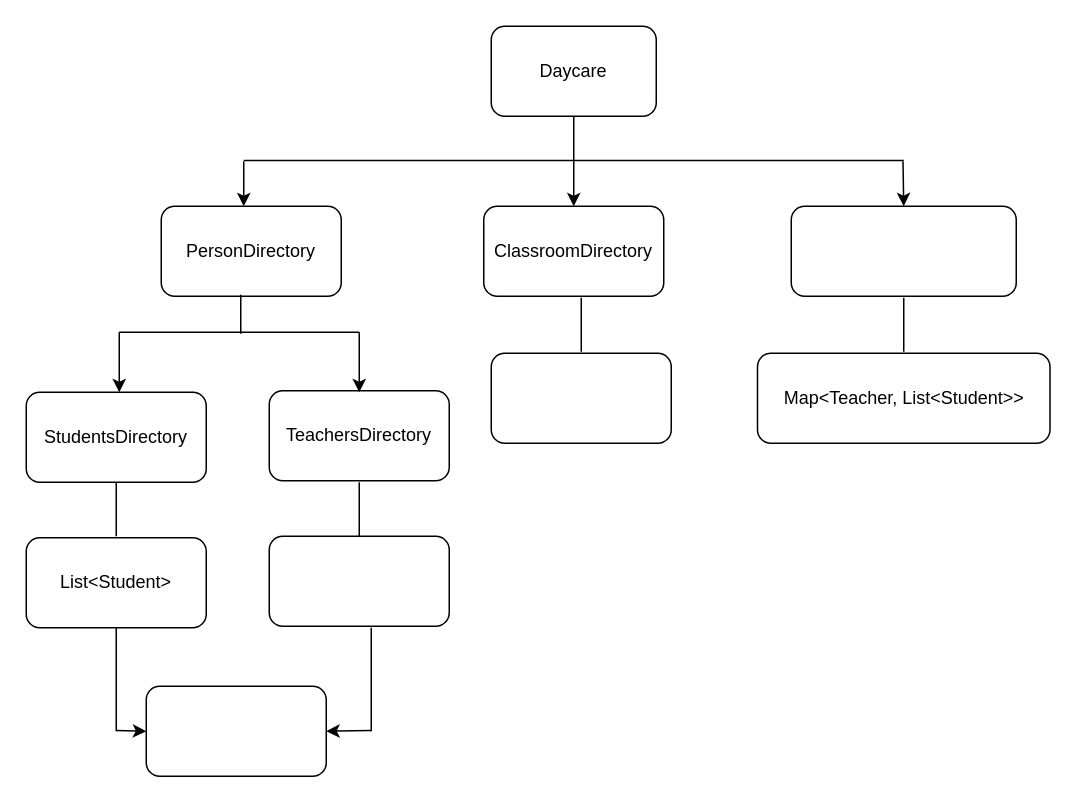
Image size: 1077x803. Some labels were removed from this diagram. Each missing label, with the centre of its shape:
"AbstractPerson" goes at point (235, 730).
"List<Classroom>" goes at point (580, 397).
"List<Teacher>" goes at point (358, 580).
"TeacherStudentDirectory" goes at point (903, 250).
